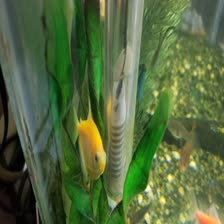Plano: (62, 104, 105, 177)
